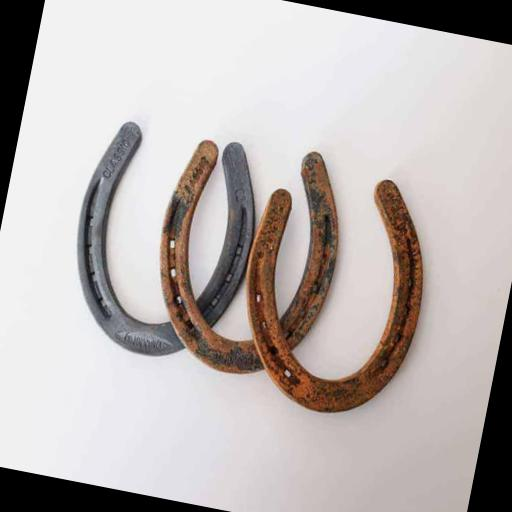segmentation: (135, 138, 262, 385), (327, 178, 445, 416), (245, 152, 339, 408)
